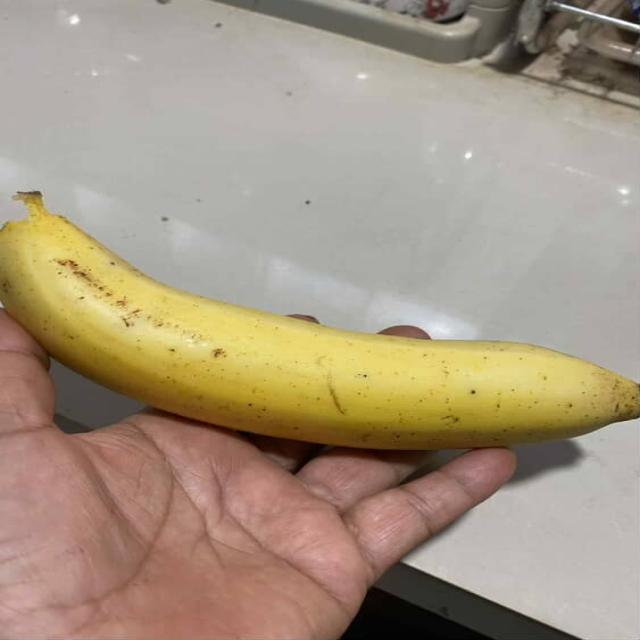Ripe: (0, 181, 640, 478)
